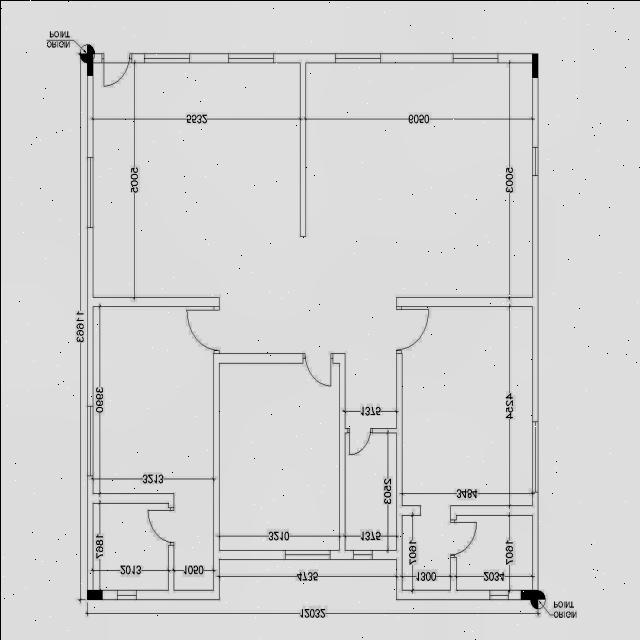Column: (520, 589, 538, 599), (86, 589, 102, 599), (532, 53, 538, 77), (86, 52, 92, 75)
Door: (184, 305, 218, 353), (395, 305, 429, 353), (146, 506, 174, 544), (302, 352, 332, 387), (449, 518, 476, 556), (101, 52, 131, 86), (346, 427, 372, 455)
Window: (143, 52, 190, 62), (334, 52, 380, 62), (452, 52, 498, 62), (284, 549, 329, 559), (228, 52, 272, 62), (86, 404, 92, 476), (86, 156, 92, 227), (531, 421, 537, 492), (116, 589, 136, 599), (488, 589, 508, 599), (352, 549, 372, 559), (531, 146, 537, 175)
